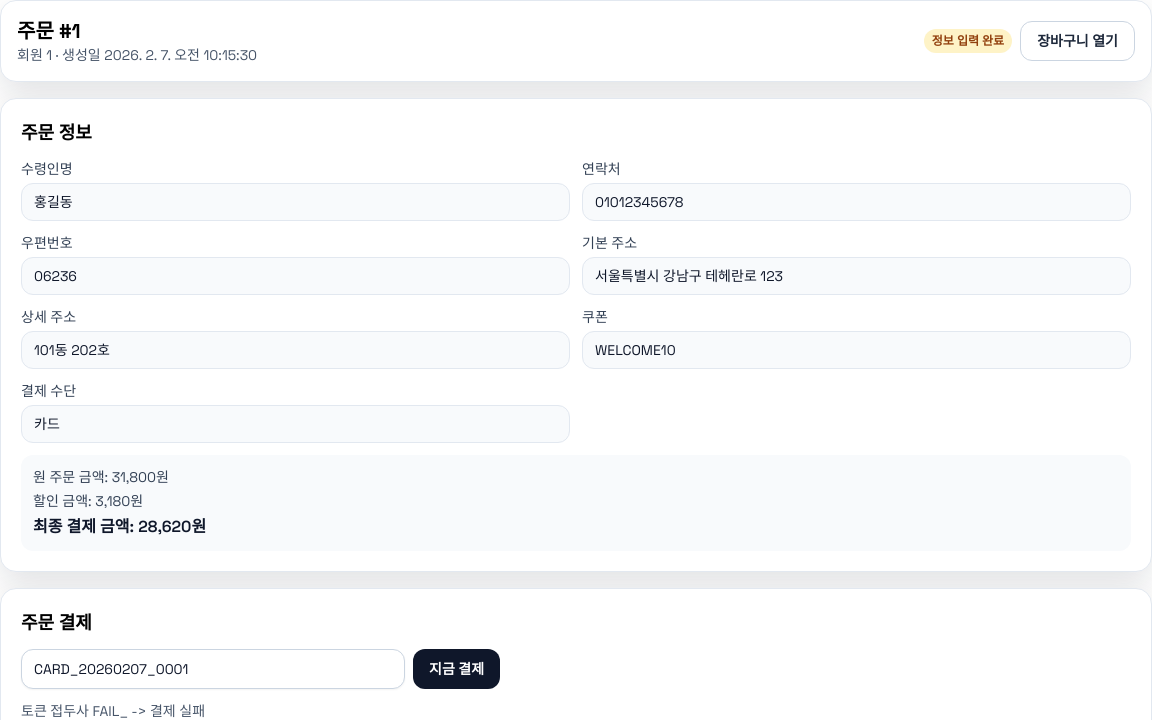
Test: OrderDetailPage › navigates to replacement order when payment fails
The image size is (1152, 720).
Check: the heading "주문 결제" is shown, box left=21, top=611, right=92, bottom=634
Click the button "지금 결제" at (457, 669), box left=413, top=649, right=500, bottom=689
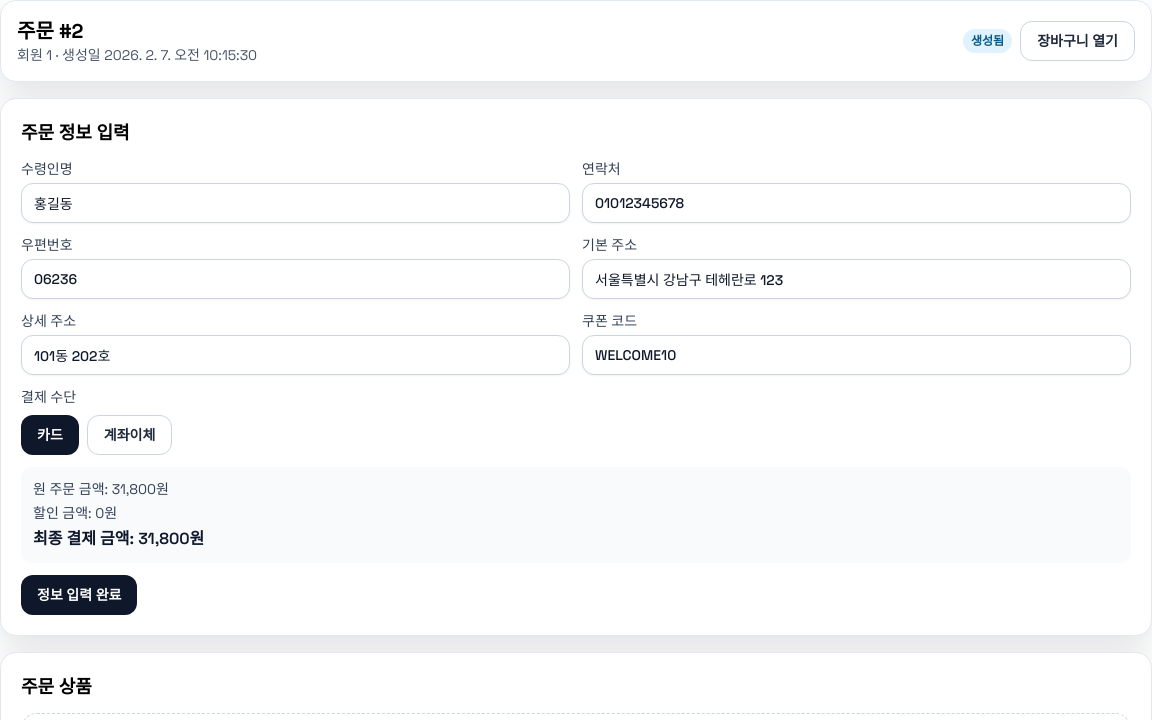
Check: the field showing "홍길동" is shown, box left=21, top=183, right=570, bottom=223
Check: the field labelled "쿠폰 코드" holds "WELCOME10", box left=582, top=335, right=1131, bottom=375
